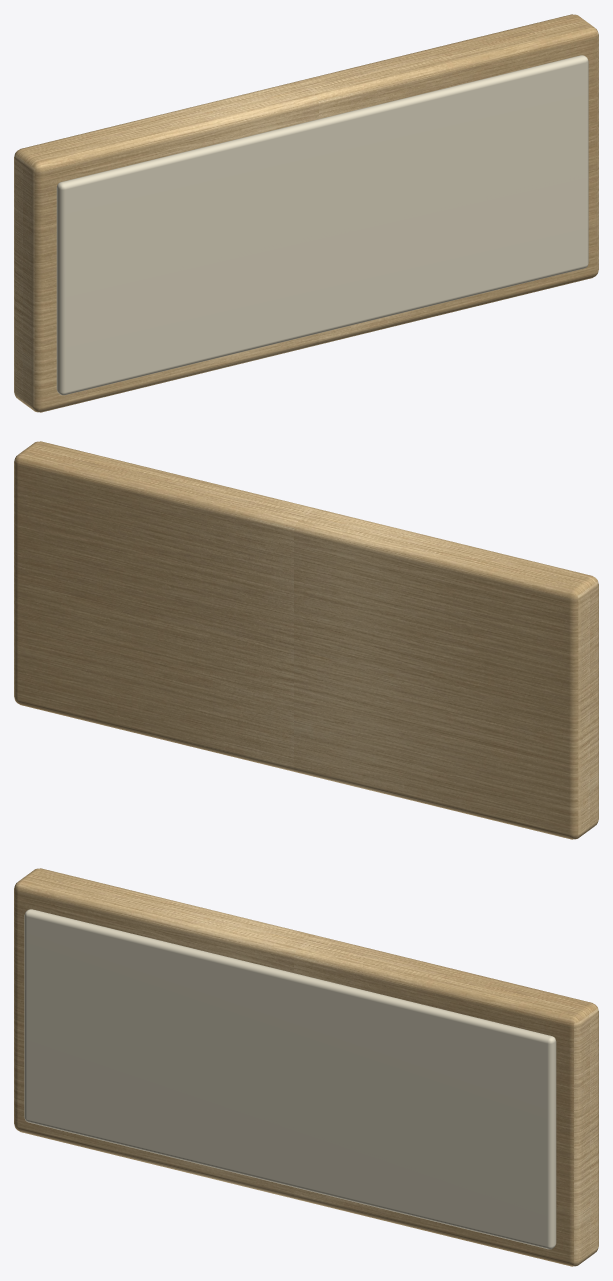
File: sign.glb
3 views of the same model, one above another, from view 1: azimuth 30°, elevation 25°; view 2: azimuth 150°, elevation 25°; view 3: azimuth 330°, elevation 25° (orthographic).
Visible parts, largest first — view 1: sign; view 2: sign; view 3: sign.
Boxes of the visible parts, x1,y1,x2,y2 form: sign: (14,14,598,412); sign: (14,441,598,839); sign: (14,868,598,1266).
Bounding box in the file's own units: 1.82 × 0.77 × 0.1775.
Materials: 2 (1 with a texture image).
